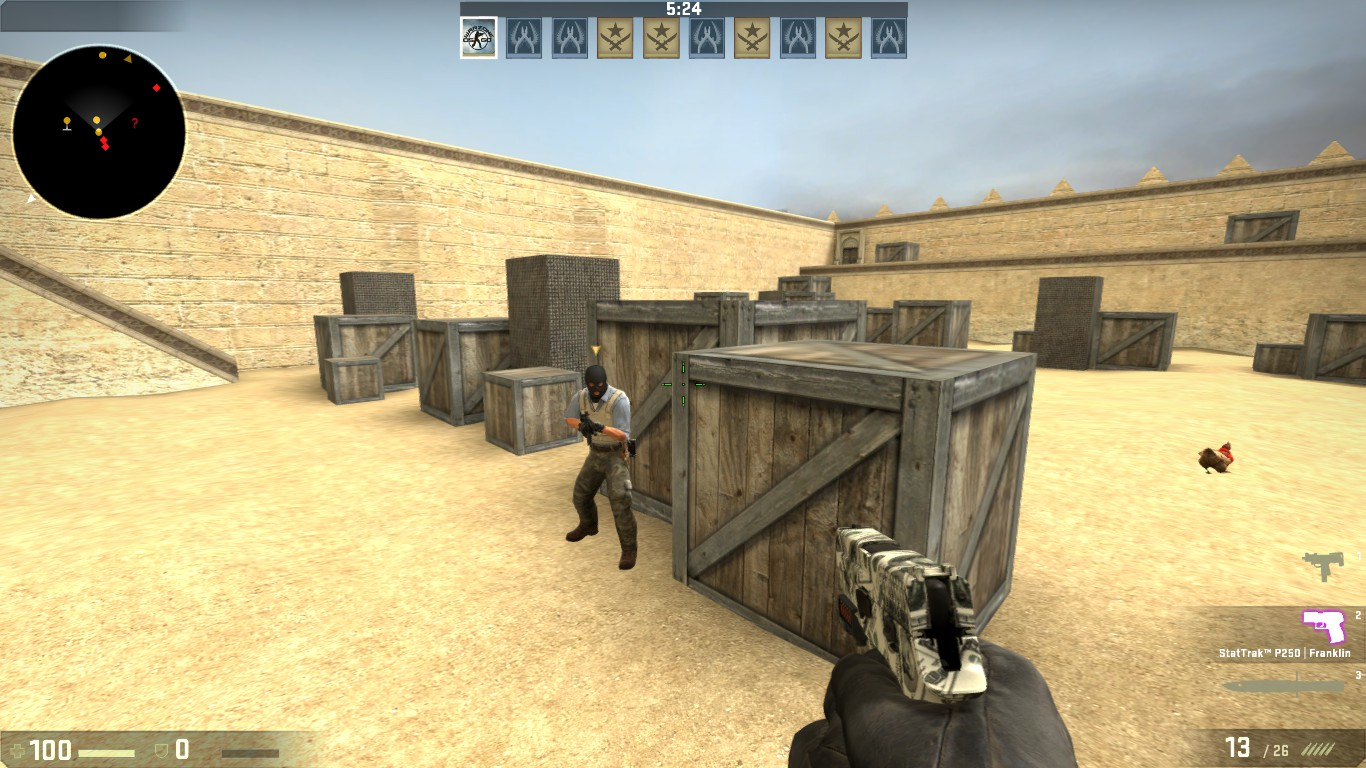t: (566, 361, 637, 565)
th: (580, 365, 612, 403)
